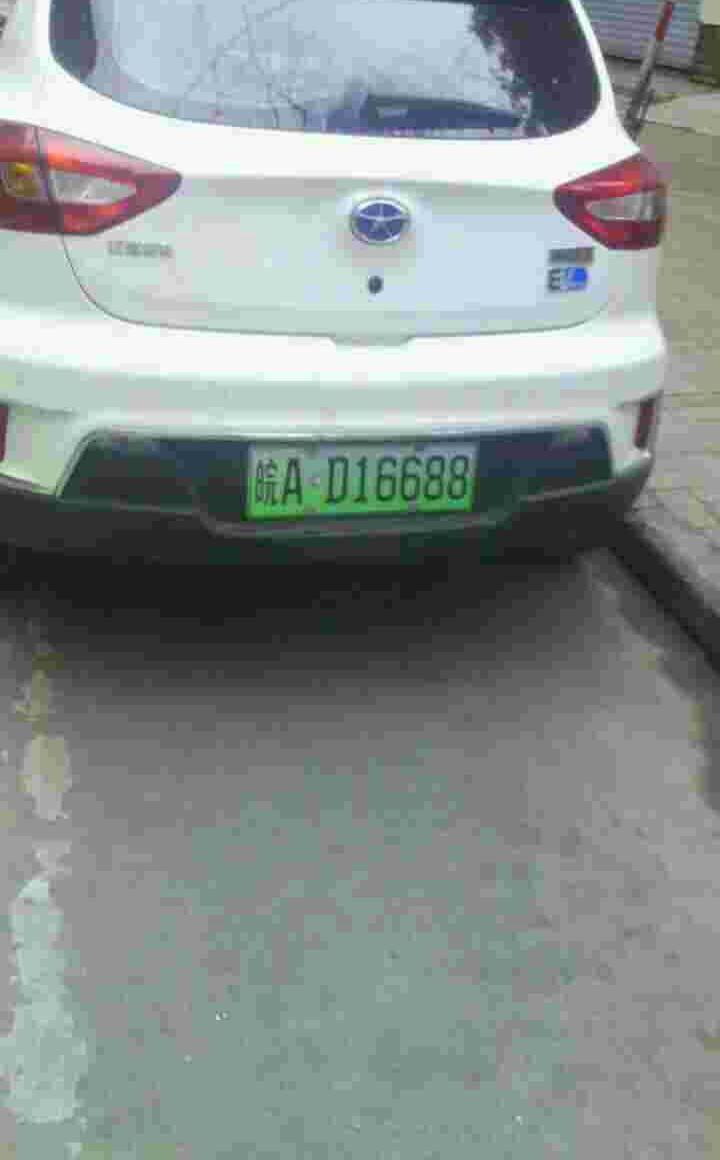car: (244, 435, 480, 522)
